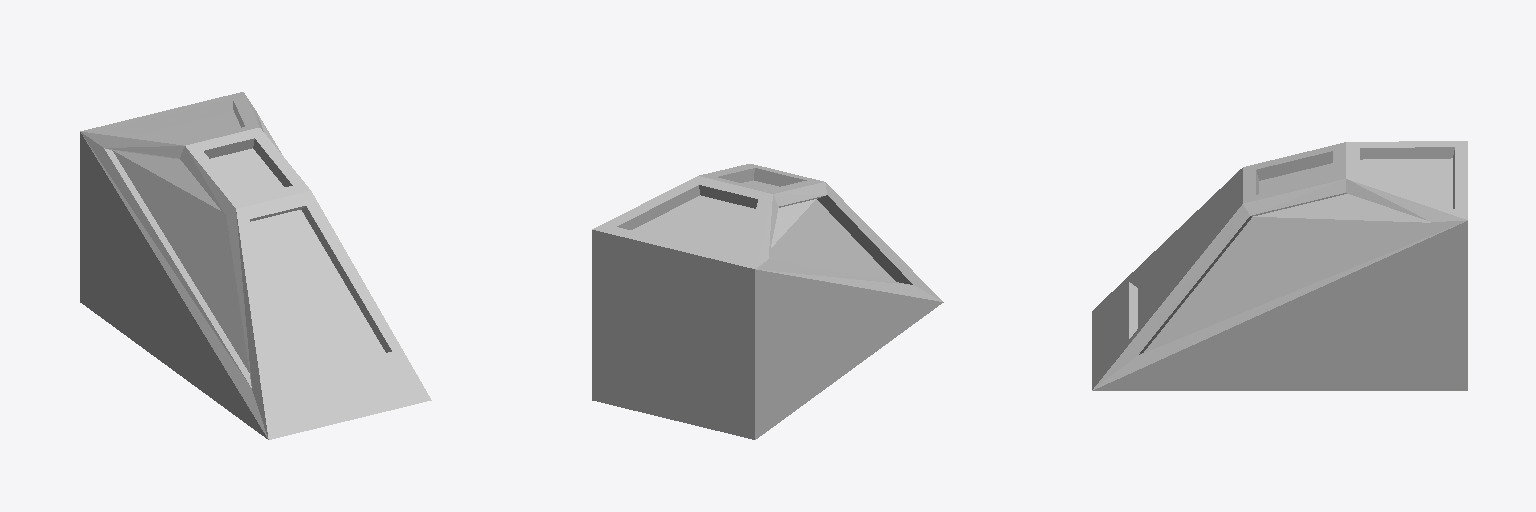
File: cockpit.obj
The picture shows the model from 3 angles: view 1: azimuth 30°, elevation 25°; view 2: azimuth 150°, elevation 25°; view 3: azimuth 270°, elevation 25°; orthographic projection.
Parts seen in each view (by area): view 1: Cube; view 2: Cube; view 3: Cube.
Part boxes in pixels (x1,y1,x2,y2): Cube: (80,92,431,439); Cube: (592,164,943,439); Cube: (1092,141,1467,390).
Size of the model in its own units: 1 by 1.12 by 2.